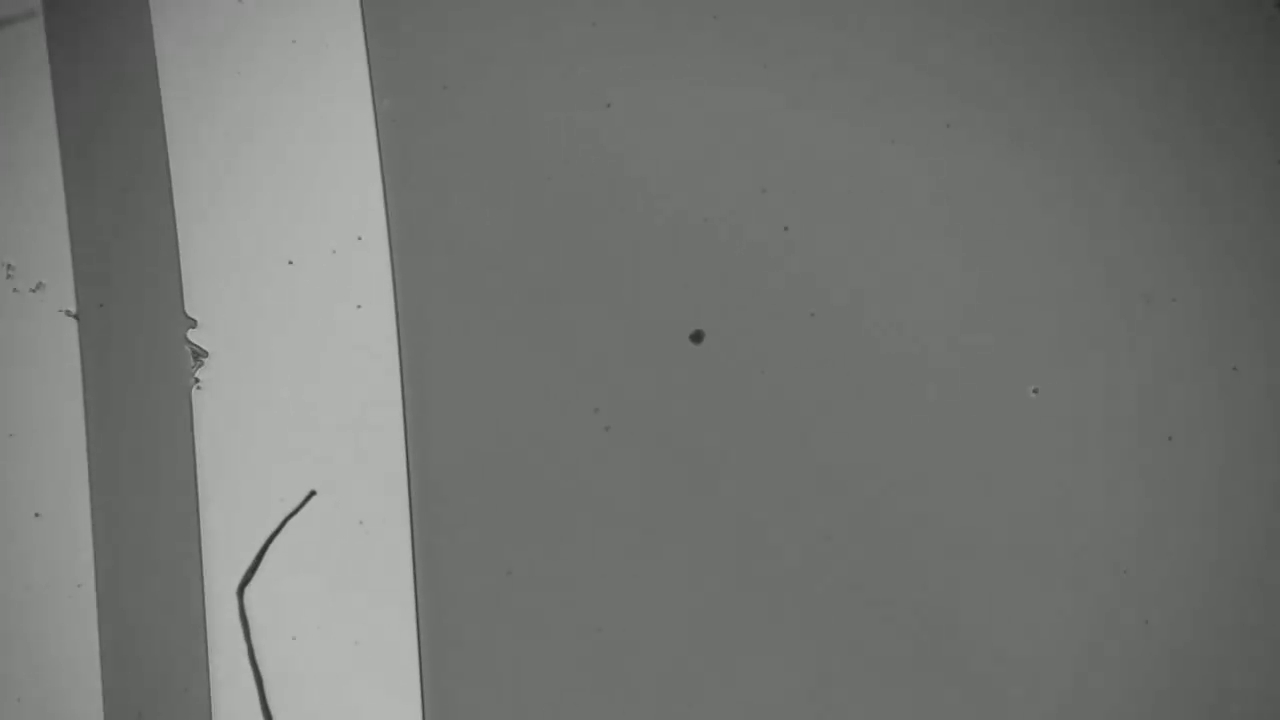edge_bite: (170, 334, 228, 395), (175, 305, 205, 338)
